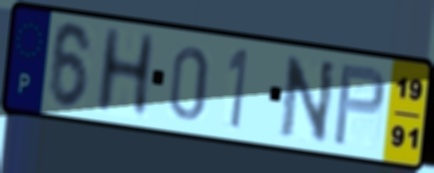0: (166, 44, 215, 122)
1: (226, 47, 251, 134)
6: (45, 21, 98, 112)
H: (92, 24, 160, 117)
N: (278, 53, 339, 146)
P: (330, 62, 388, 148)
